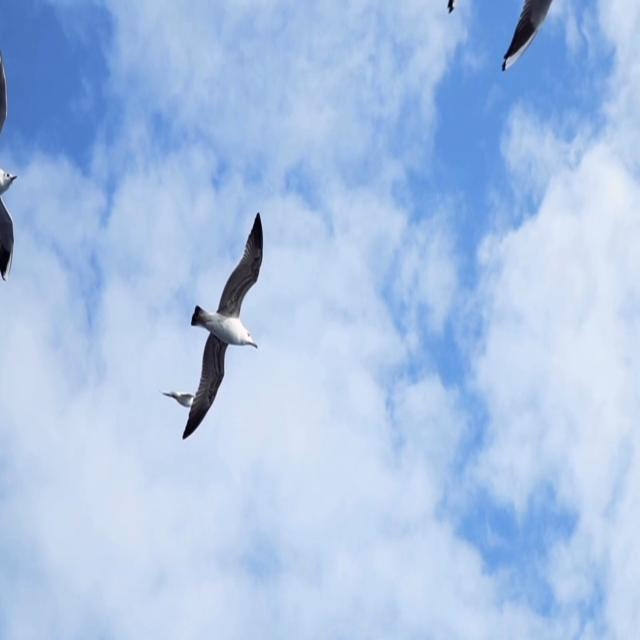bird: (178, 210, 274, 468), (0, 26, 31, 313), (499, 0, 588, 86), (162, 363, 209, 438), (433, 0, 464, 35)
